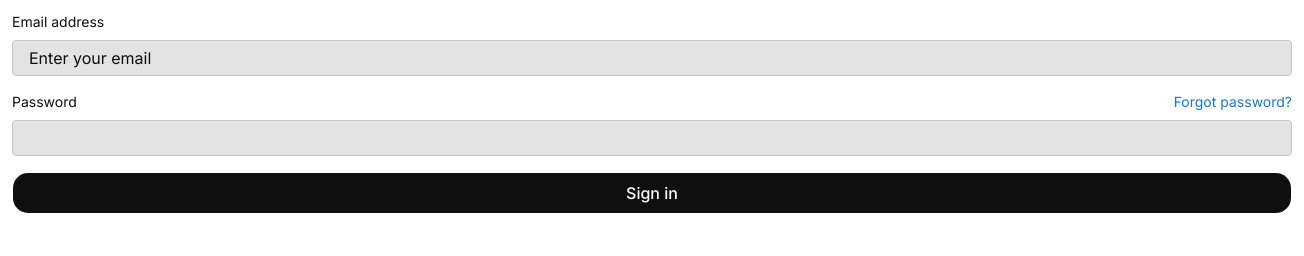
Test: <LoginForm /> wiring › maps a 400 to an inline error on the email field
Type "alice@example.com" into the field labelled "Email address". click: [652, 58]
box: [12,40,1292,76]
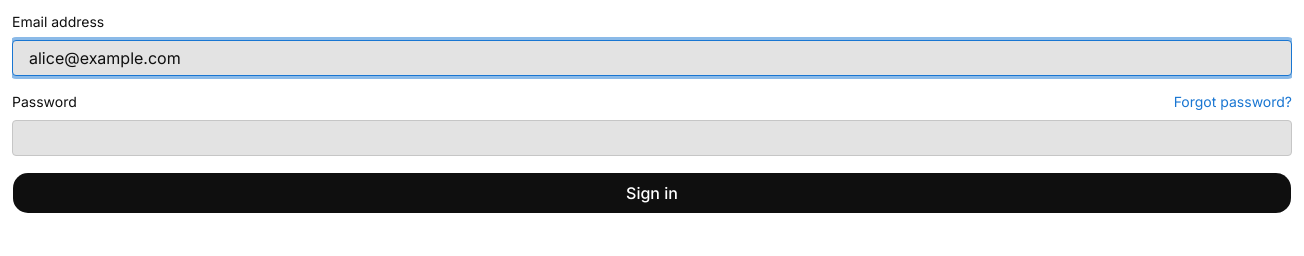
Type "secret123" into the password field labelled "Password". click: [652, 138]
box: [12,120,1292,156]
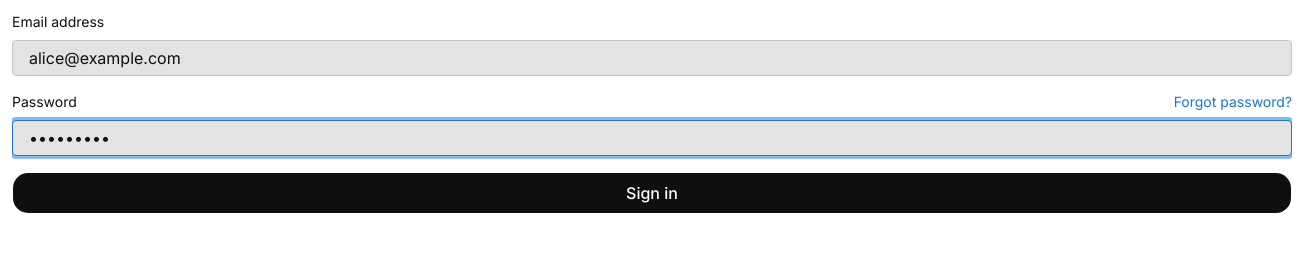
Click the button "Sign in". click: [652, 193]
box: [12,172,1292,214]
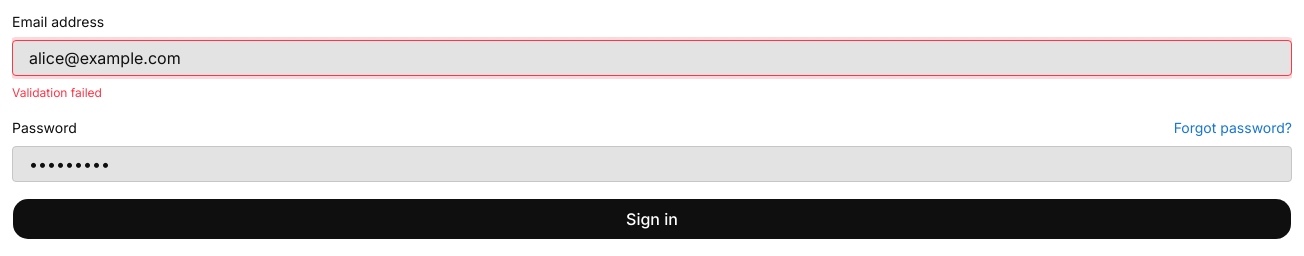
Expected: the text "Validation failed" is shown, [12,85,102,100]
